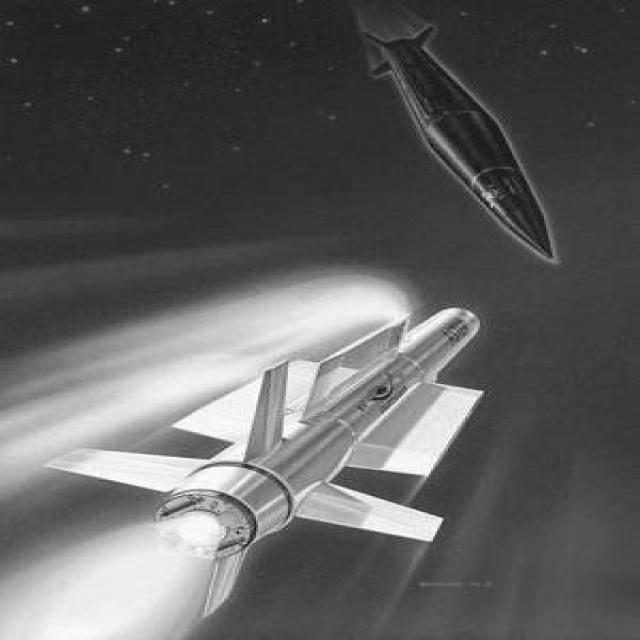missile: (339, 0, 574, 271)
